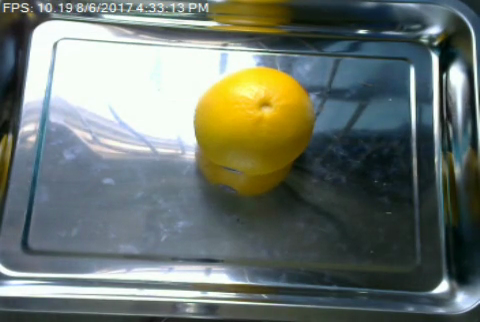Orange: (191, 66, 314, 176)
